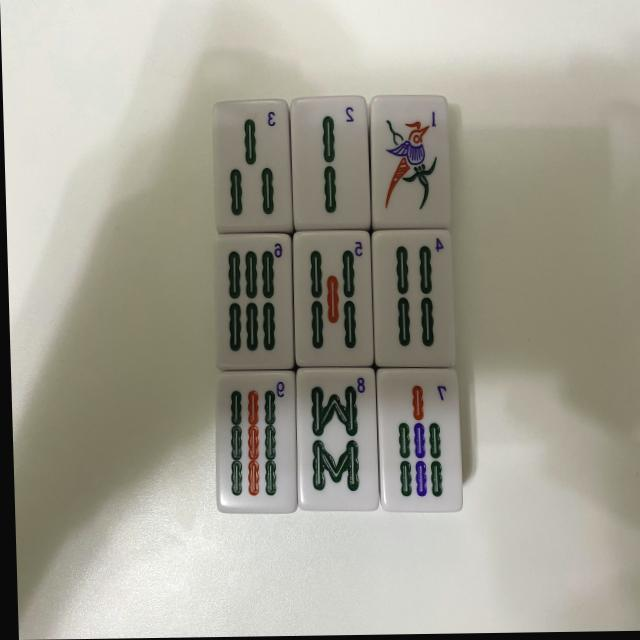s1: (368, 95, 450, 228)
s2: (290, 97, 372, 228)
s3: (214, 98, 292, 231)
s4: (371, 230, 456, 366)
s5: (291, 230, 374, 365)
s6: (212, 233, 296, 369)
s7: (376, 368, 462, 512)
s8: (295, 367, 380, 509)
s9: (213, 370, 299, 510)
